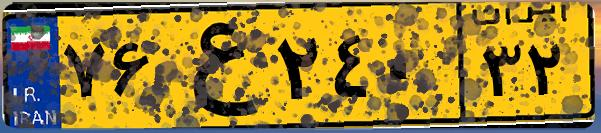0: (385, 28, 445, 110)
2: (270, 28, 330, 110), (525, 38, 570, 115)
3: (475, 38, 525, 113)
4: (330, 28, 385, 110)
6: (110, 28, 158, 98)
7: (57, 26, 110, 100)
ع: (158, 12, 270, 120)
